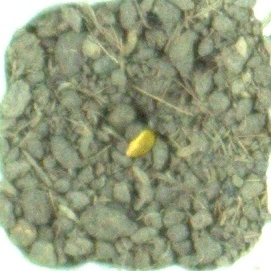chilli seed: (124, 128, 161, 161)
